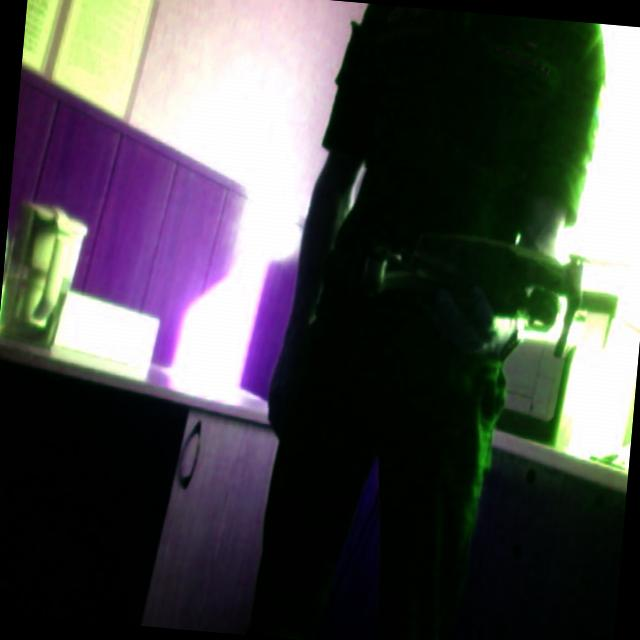drone: (336, 195, 640, 378)
